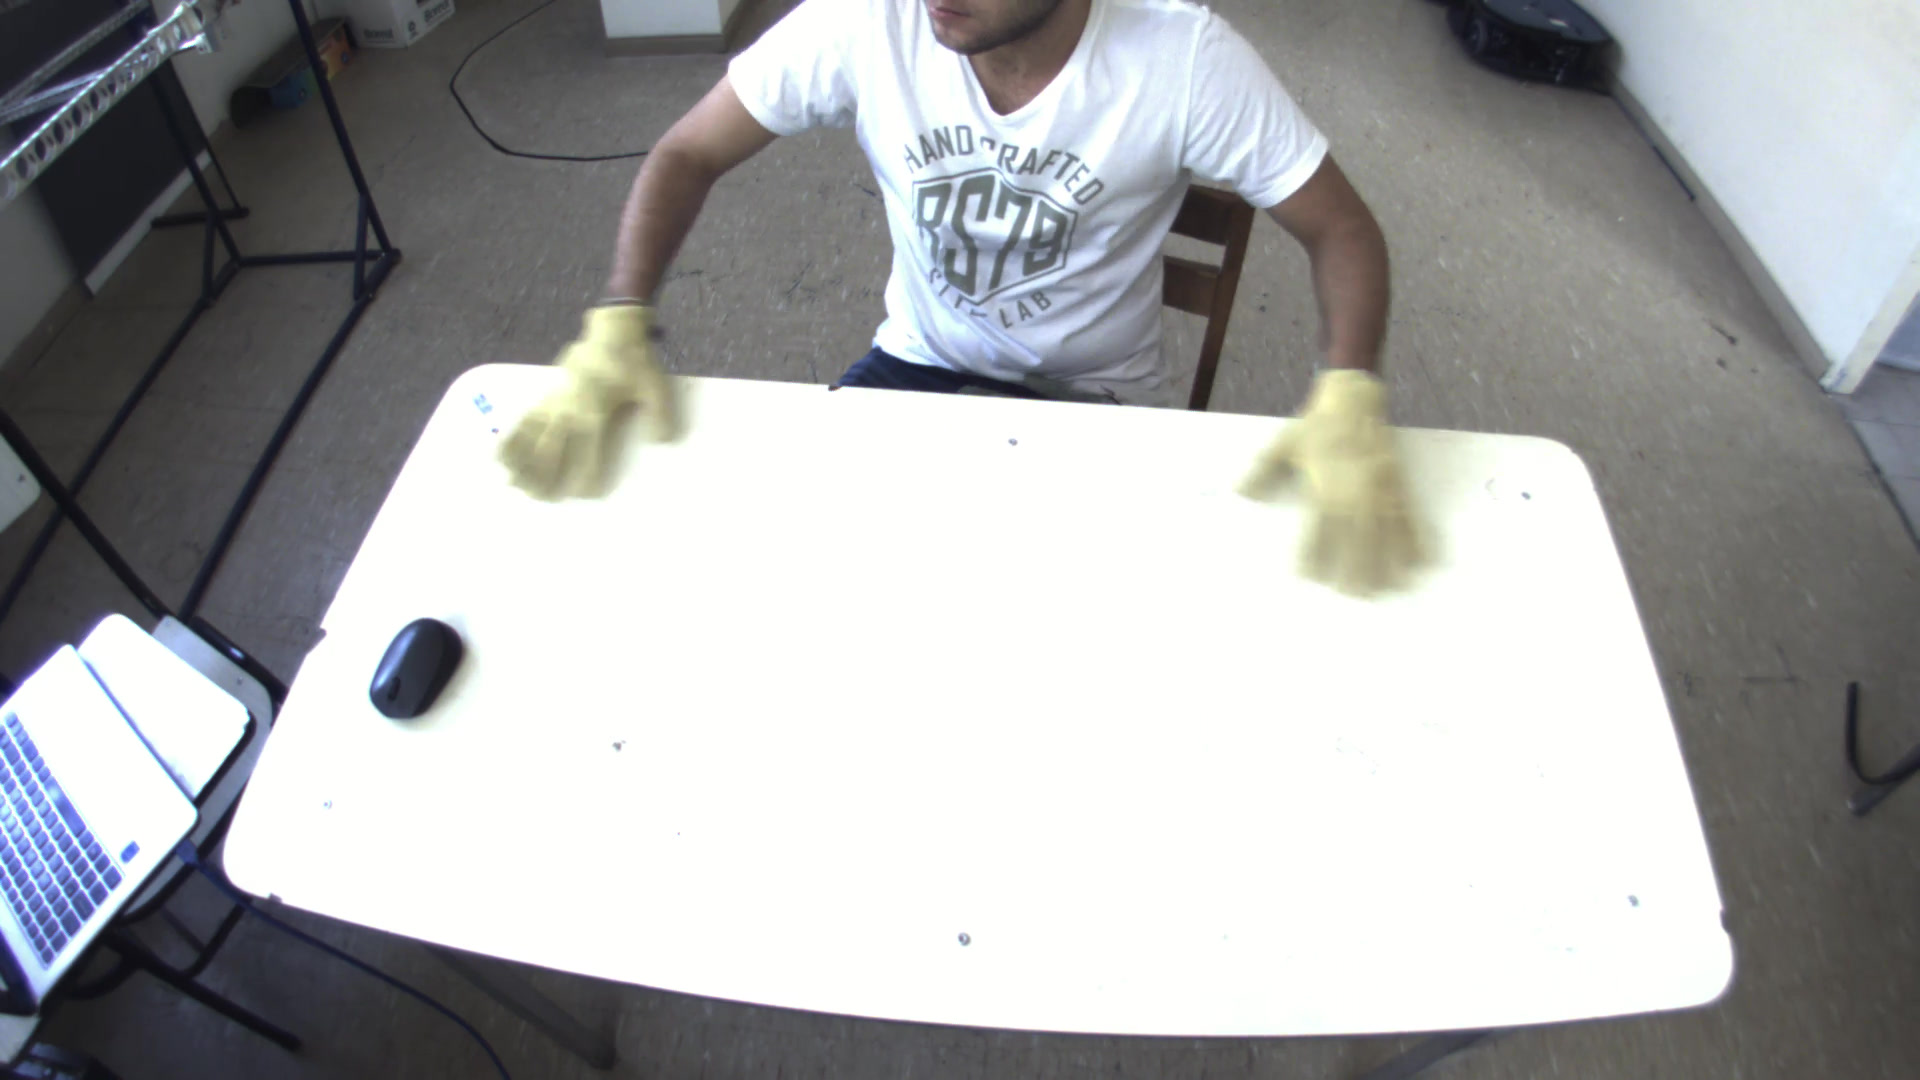hand: (485, 282, 698, 506)
